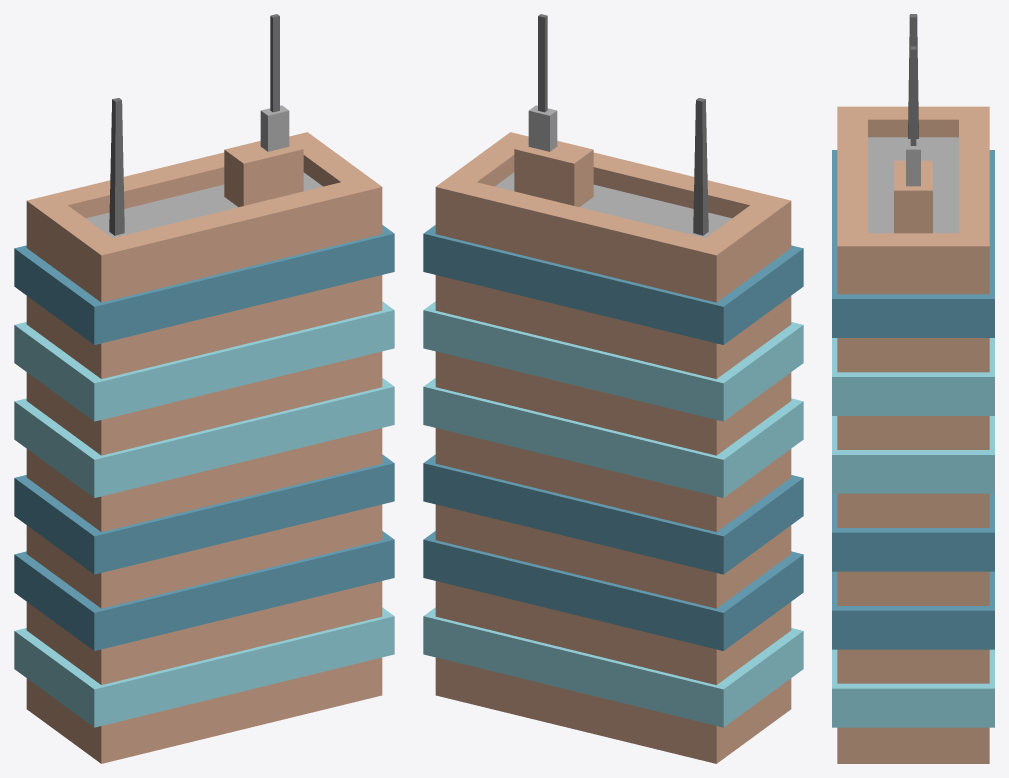
The model's file is BigHouse 1.2.fbx.
The picture shows the model from 3 angles, left to right: view 1: azimuth 30°, elevation 25°; view 2: azimuth 150°, elevation 25°; view 3: azimuth 270°, elevation 25°; orthographic projection.
Parts seen in each view (by area): view 1: BigHouse_Type1_2; view 2: BigHouse_Type1_2; view 3: BigHouse_Type1_2.
Boxes of the visible parts, box(x1,y1,x2,y2) form: BigHouse_Type1_2: box(14, 14, 394, 763); BigHouse_Type1_2: box(423, 14, 803, 763); BigHouse_Type1_2: box(832, 14, 994, 763).
Bounding box in the file's own units: 824 × 1755 × 380.
